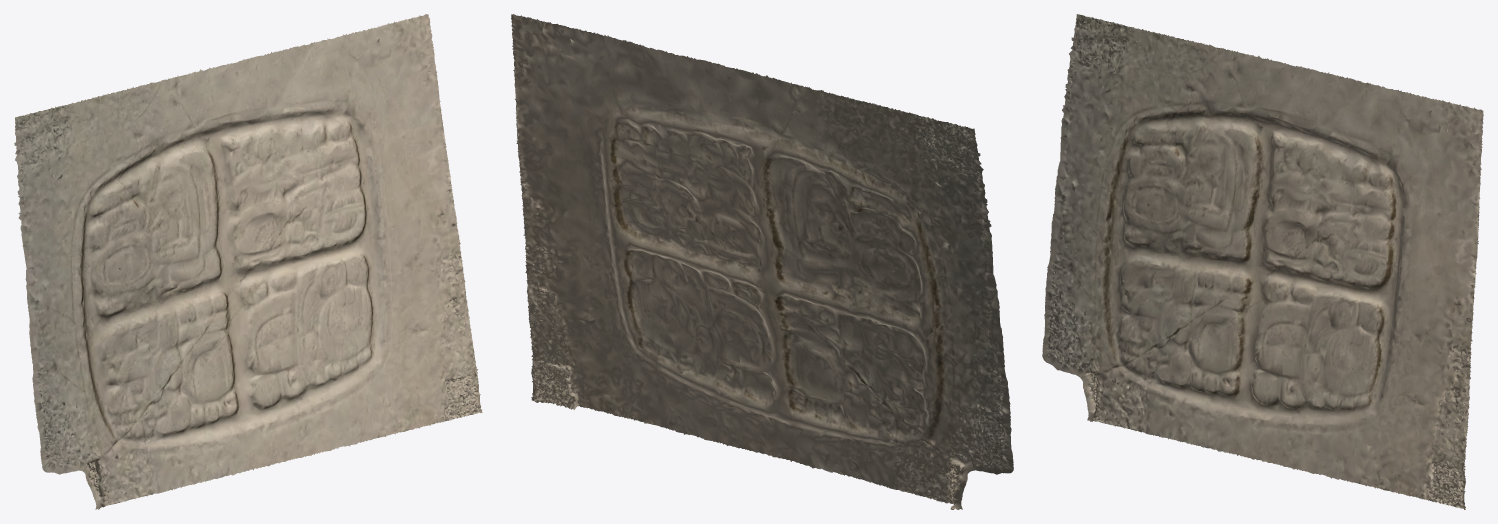
Rendered from glyph-panel.glb.
3 renders of one model, left to right at view 1: azimuth 30°, elevation 25°; view 2: azimuth 150°, elevation 25°; view 3: azimuth 330°, elevation 25°, orthographic. The views are drawn at different scales.
Parts seen in each view (by area): view 1: Object_2; view 2: Object_2; view 3: Object_2.
Part boxes in pixels (bbox=[...]): Object_2: bbox=[14, 14, 482, 509]; Object_2: bbox=[511, 14, 1013, 509]; Object_2: bbox=[1042, 14, 1483, 509].
Size of the model in its own units: 4.17 by 3.47 by 0.6366.
1 material, 1 textured.
